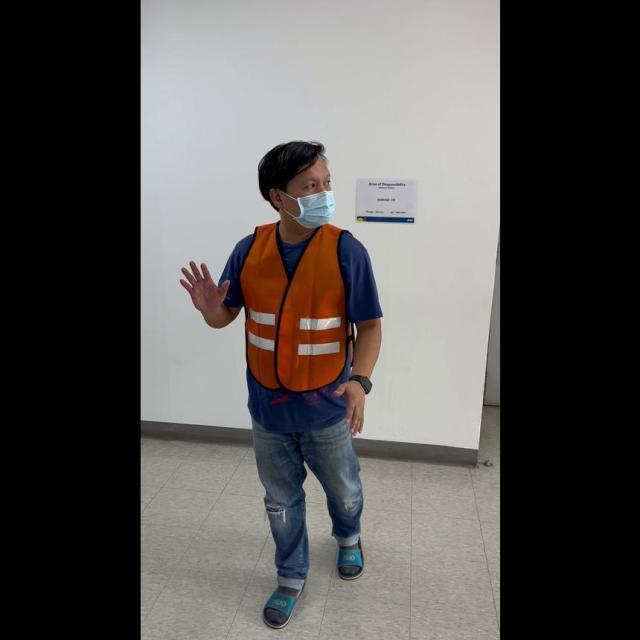bare_hand: (177, 255, 228, 316), (333, 375, 368, 436)
